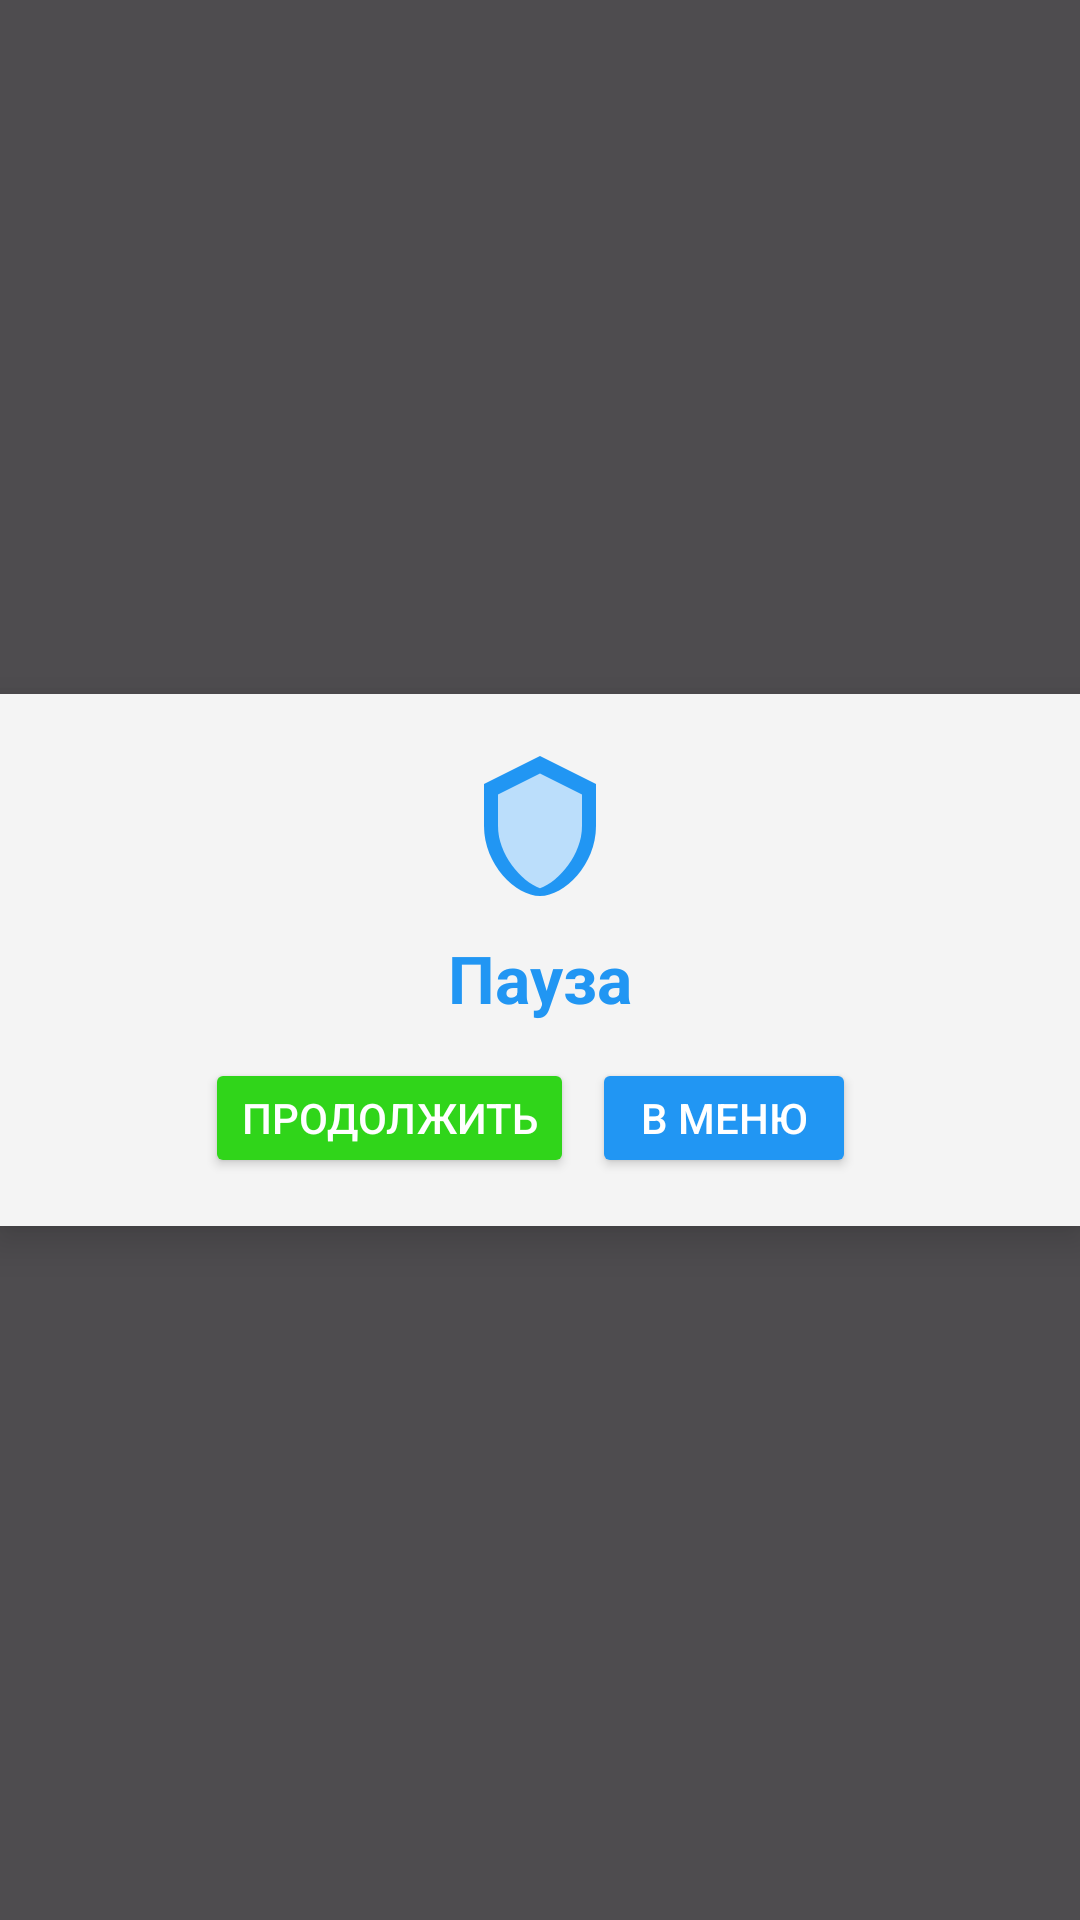

Locate icon controls on the screen. Image size 1080x1920, boxes as bbox=(x1, y1, x2, y2).
shield: bbox=(484, 756, 596, 896)
